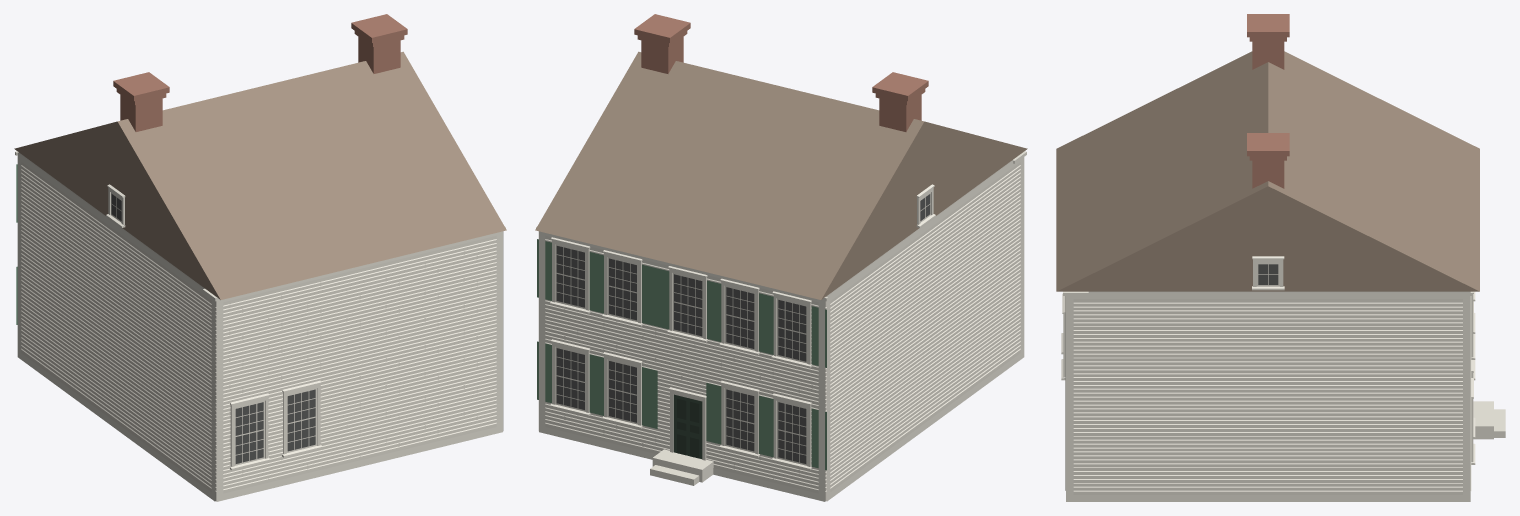
The model's file is recon_1835_south_h2_039__inferred_1835.glb.
The picture shows the model from 3 angles, left to right: view 1: azimuth 30°, elevation 25°; view 2: azimuth 150°, elevation 25°; view 3: azimuth 270°, elevation 25°; orthographic projection. The views are drawn at different scales.
Parts seen in each view (by area): view 1: recon_1835_south_h2_039__inferred_1835; view 2: recon_1835_south_h2_039__inferred_1835; view 3: recon_1835_south_h2_039__inferred_1835.
Boxes of the visible parts, bbox=[...] form: recon_1835_south_h2_039__inferred_1835: bbox=[14, 14, 506, 501]; recon_1835_south_h2_039__inferred_1835: bbox=[535, 14, 1027, 501]; recon_1835_south_h2_039__inferred_1835: bbox=[1056, 14, 1505, 501].
Bounding box in the file's own units: 9.13 × 10.11 × 11.84.
